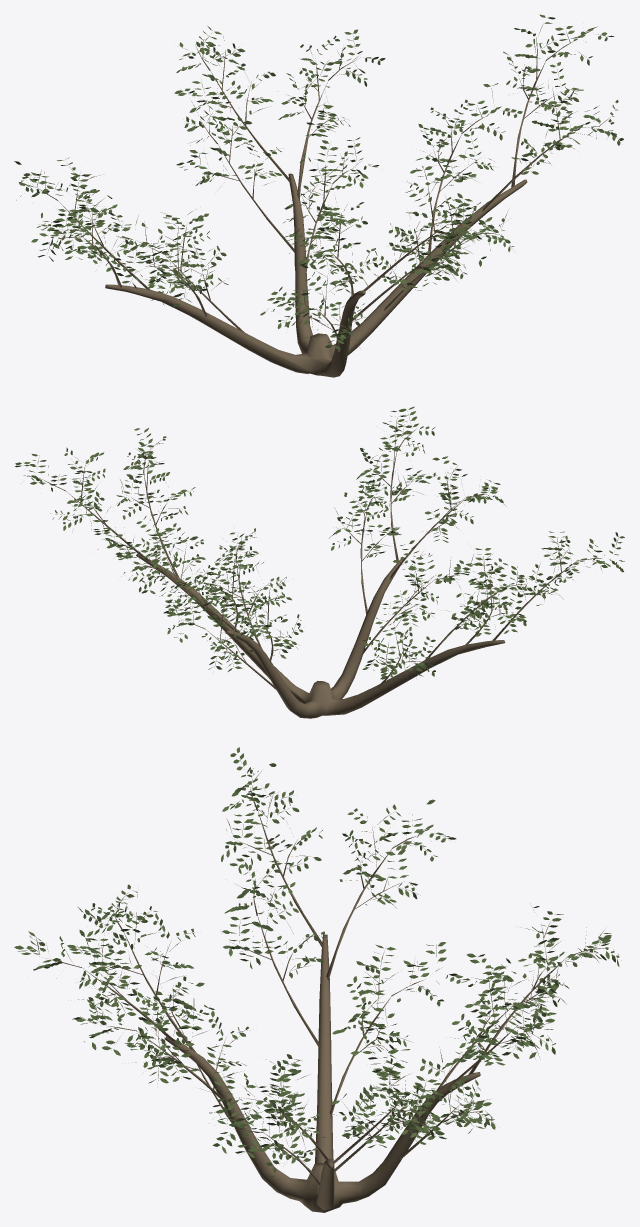
File: Lentisque_2_Niveau1.fbx
3 views of the same model, one above another, from view 1: azimuth 30°, elevation 25°; view 2: azimuth 150°, elevation 25°; view 3: azimuth 270°, elevation 25° (orthographic). The views are drawn at different scales.
Visible parts, largest first — view 1: Lentisque_2_Niveau1_Jeu; view 2: Lentisque_2_Niveau1_Jeu; view 3: Lentisque_2_Niveau1_Jeu.
Boxes of the visible parts, x1,y1,x2,y2 form: Lentisque_2_Niveau1_Jeu: [14, 14, 623, 377]; Lentisque_2_Niveau1_Jeu: [15, 406, 624, 718]; Lentisque_2_Niveau1_Jeu: [14, 747, 621, 1212].
Bounding box in the file's own units: 304 × 122 × 223.
